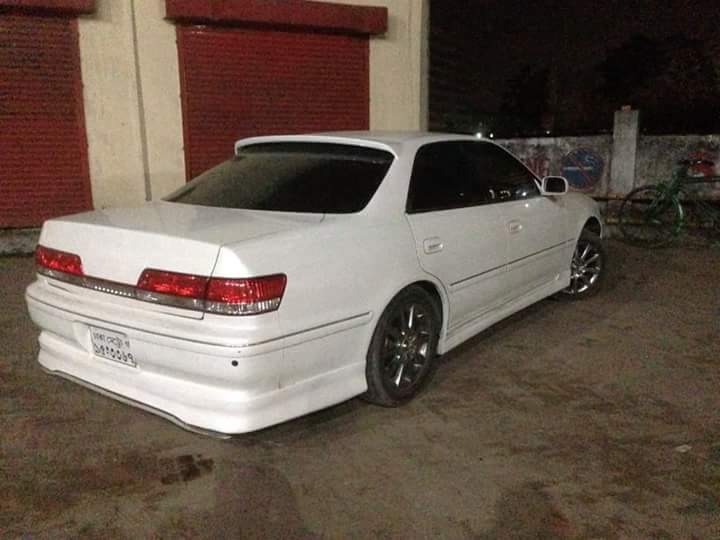registration_plate: (89, 325, 136, 369)
